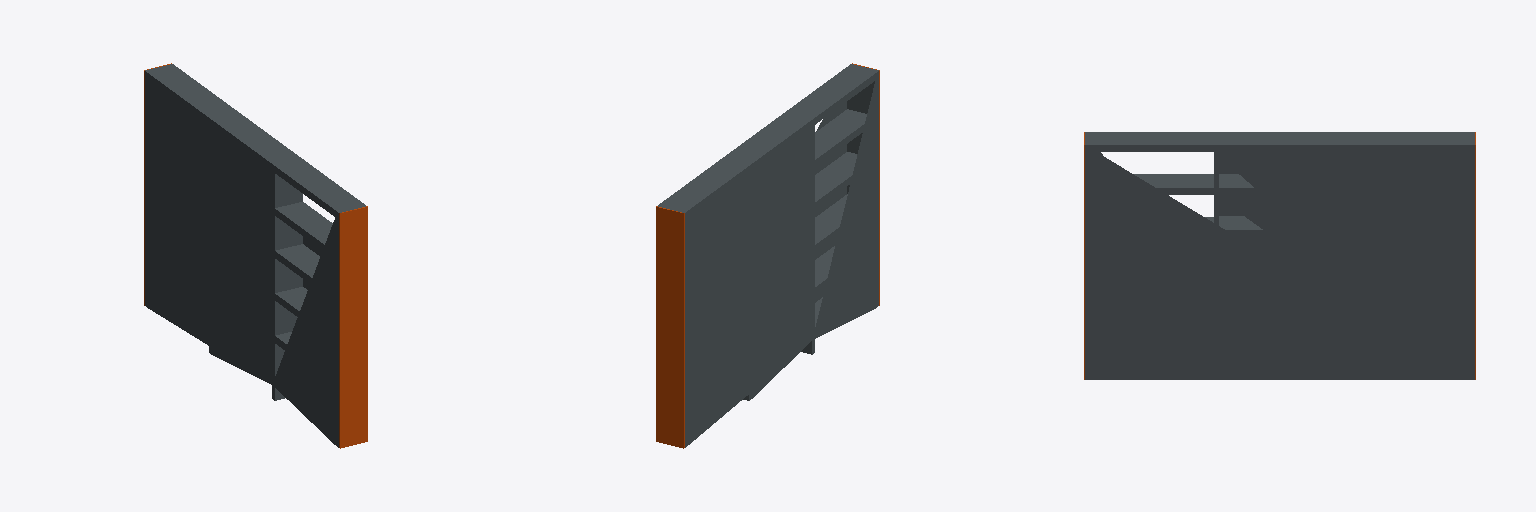
File: Ke3mNew.obj
3 views of the same model, side by side, from view 1: azimuth 30°, elevation 25°; view 2: azimuth 150°, elevation 25°; view 3: azimuth 270°, elevation 25° (orthographic).
Visible parts, largest first — view 1: Cube.009; view 2: Cube.009; view 3: Cube.009.
Boxes of the visible parts, box(x1,y1,x2,y2) form: Cube.009: box(144, 63, 367, 448); Cube.009: box(656, 63, 879, 448); Cube.009: box(1084, 132, 1475, 379).
Size of the model in its own units: 0.5 by 4 by 6.04.